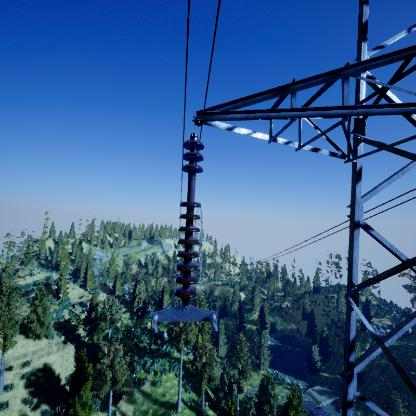insulator: (173, 136, 207, 305)
